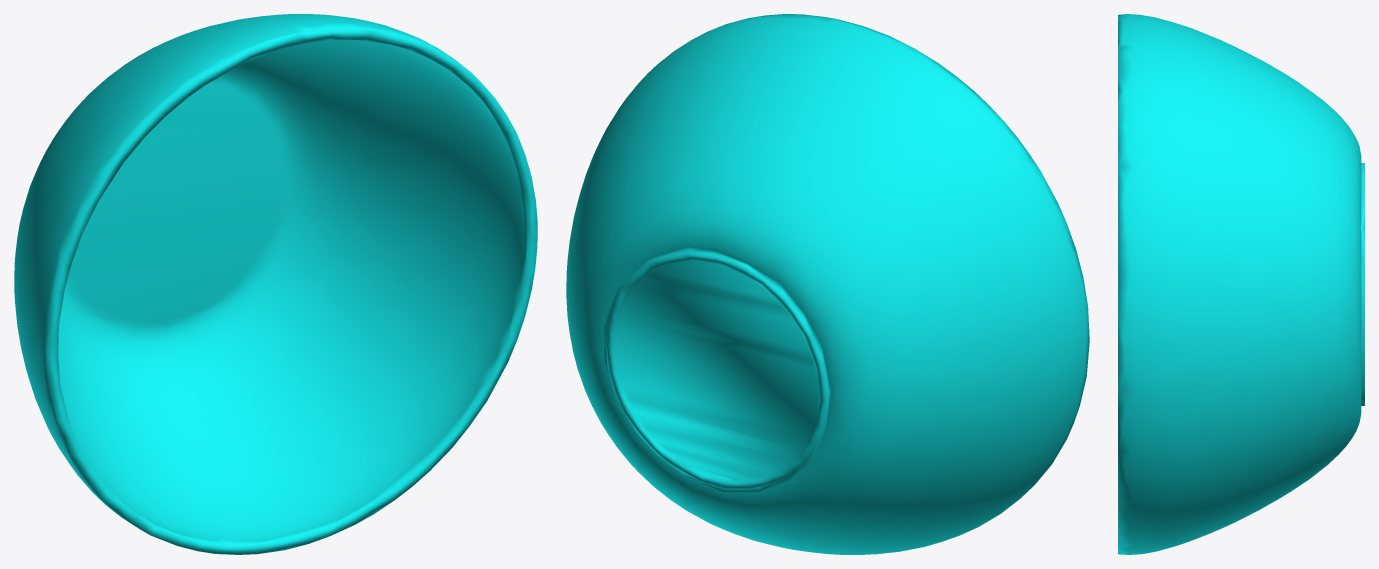
The model's file is realistic_bowl.glb.
3 views of the same model, side by side, from view 1: azimuth 30°, elevation 25°; view 2: azimuth 150°, elevation 25°; view 3: azimuth 270°, elevation 25° (orthographic). The views are drawn at different scales.
Visible parts, largest first — view 1: Object_2; view 2: Object_2; view 3: Object_2.
Boxes of the visible parts, box(x1,y1,x2,y2) form: Object_2: box(14, 14, 537, 554); Object_2: box(566, 14, 1089, 554); Object_2: box(1118, 14, 1364, 554).
Bounding box in the file's own units: 201 × 201 × 91.5.
